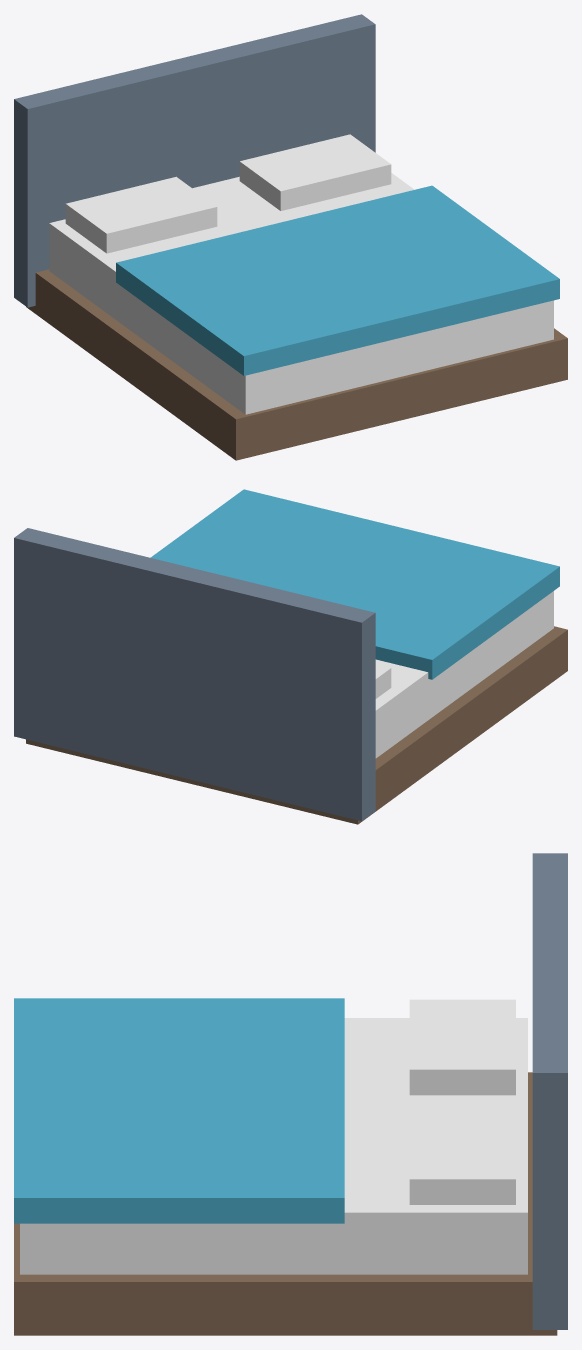
File: master_bed.glb
3 views of the same model, one above another, from view 1: azimuth 30°, elevation 25°; view 2: azimuth 150°, elevation 25°; view 3: azimuth 270°, elevation 25° (orthographic). The views are drawn at different scales.
Visible parts, largest first — view 1: Duvet, Headboard, Mattress, BedFrame, Pillows; view 2: Headboard, Duvet, BedFrame, Mattress, Pillows; view 3: Duvet, Mattress, BedFrame, Pillows, Headboard.
Boxes of the visible parts, x1=… form: Duvet: x1=116, y1=185, x2=559, y2=375; Headboard: x1=14, y1=14, x2=375, y2=307; Mattress: x1=49, y1=173, x2=553, y2=414; BedFrame: x1=26, y1=269, x2=567, y2=460; Pillows: x1=65, y1=134, x2=391, y2=253; Headboard: x1=14, y1=528, x2=375, y2=821; Duvet: x1=150, y1=489, x2=559, y2=679; BedFrame: x1=26, y1=626, x2=567, y2=824; Mattress: x1=375, y1=591, x2=553, y2=758; Pillows: x1=375, y1=664, x2=391, y2=698; Duvet: x1=14, y1=998, x2=344, y2=1223; Mattress: x1=20, y1=1018, x2=527, y2=1274; BedFrame: x1=14, y1=1072, x2=557, y2=1335; Pillows: x1=409, y1=999, x2=515, y2=1204; Headboard: x1=532, y1=853, x2=567, y2=1329.
Bounding box in the file's own units: 2.2 × 1.25 × 2.35.
